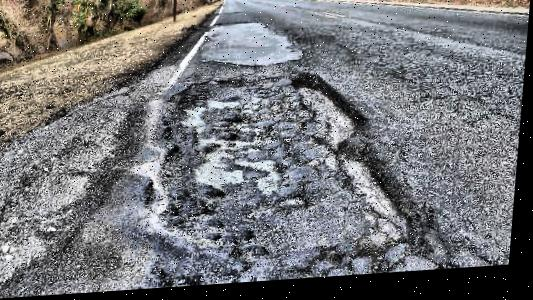pothole: (144, 65, 445, 284)
